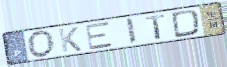D: (170, 8, 201, 39)
E: (84, 20, 115, 51)
I: (124, 16, 138, 46)
K: (57, 26, 84, 54)
O: (26, 29, 57, 59)
T: (144, 13, 168, 41)
